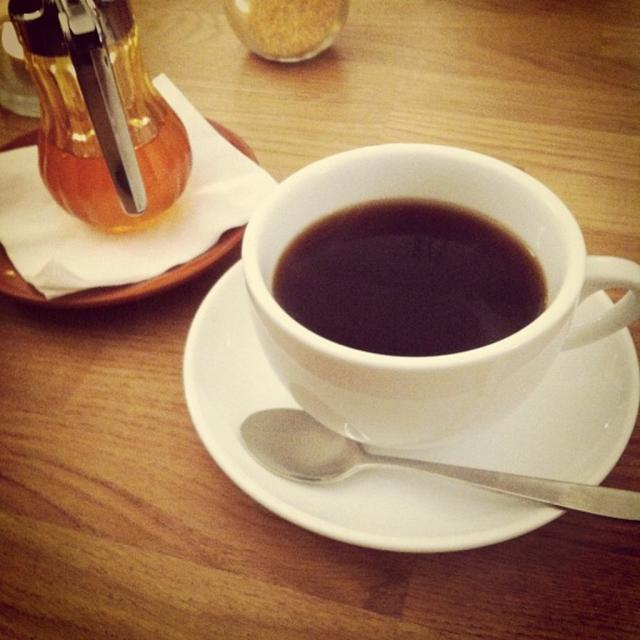Coffee: (264, 194, 552, 360)
Tea: (273, 196, 549, 354)
